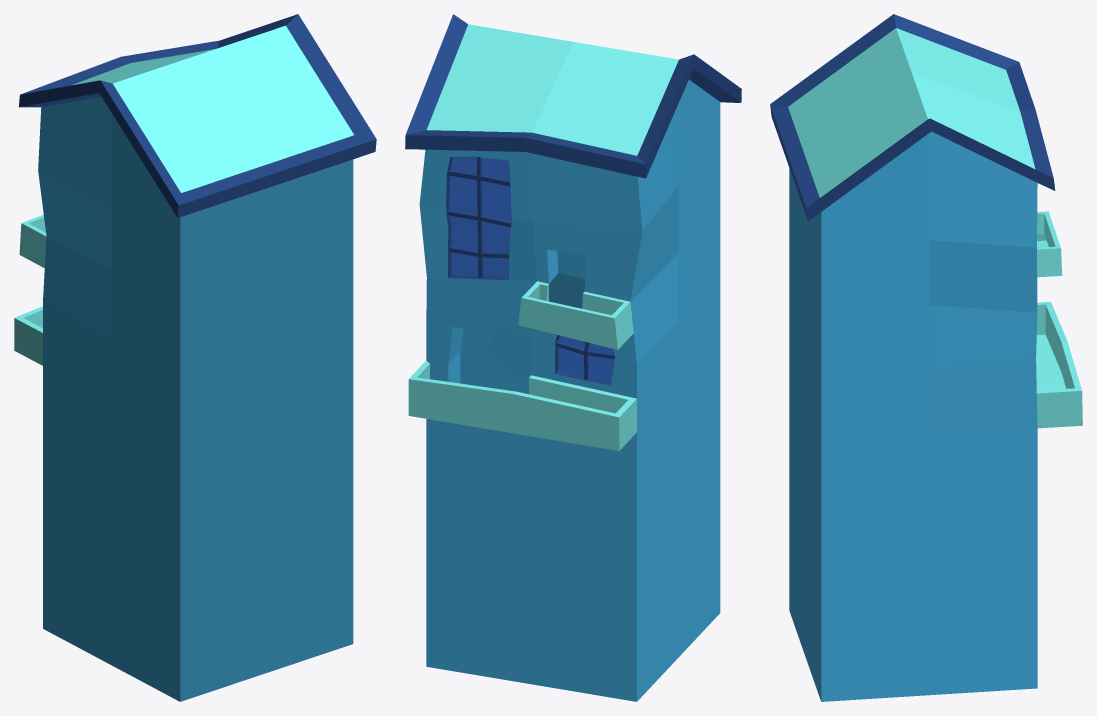
The model's file is Level_4.fbx.
The picture shows the model from 3 angles, left to right: view 1: azimuth 30°, elevation 25°; view 2: azimuth 150°, elevation 25°; view 3: azimuth 270°, elevation 25°; orthographic projection. The views are drawn at different scales.
Parts seen in each view (by area): view 1: Cube.007; view 2: Cube.007; view 3: Cube.007.
Boxes of the visible parts, bbox=[...] form: Cube.007: bbox=[14, 14, 376, 701]; Cube.007: bbox=[405, 14, 741, 701]; Cube.007: bbox=[770, 14, 1082, 701].
Size of the model in its own units: 3808 by 8594 by 4176.
